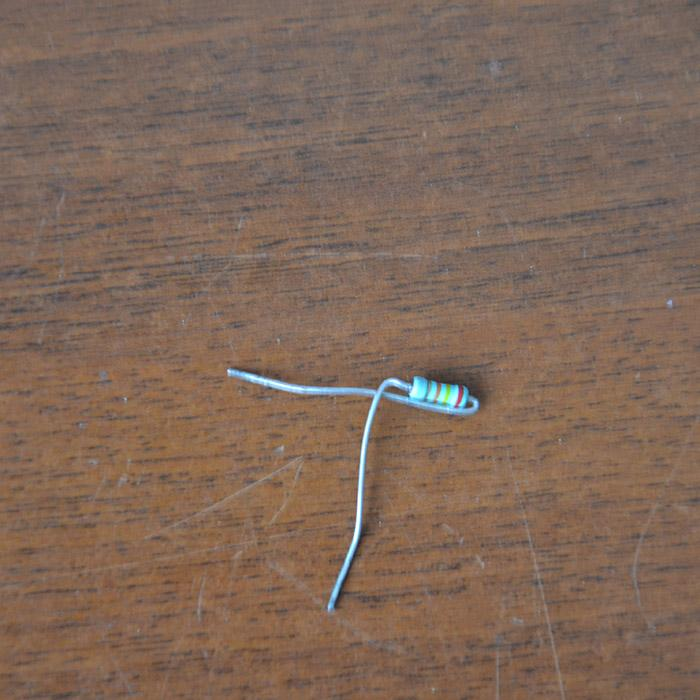resistor: (408, 374, 470, 409)
